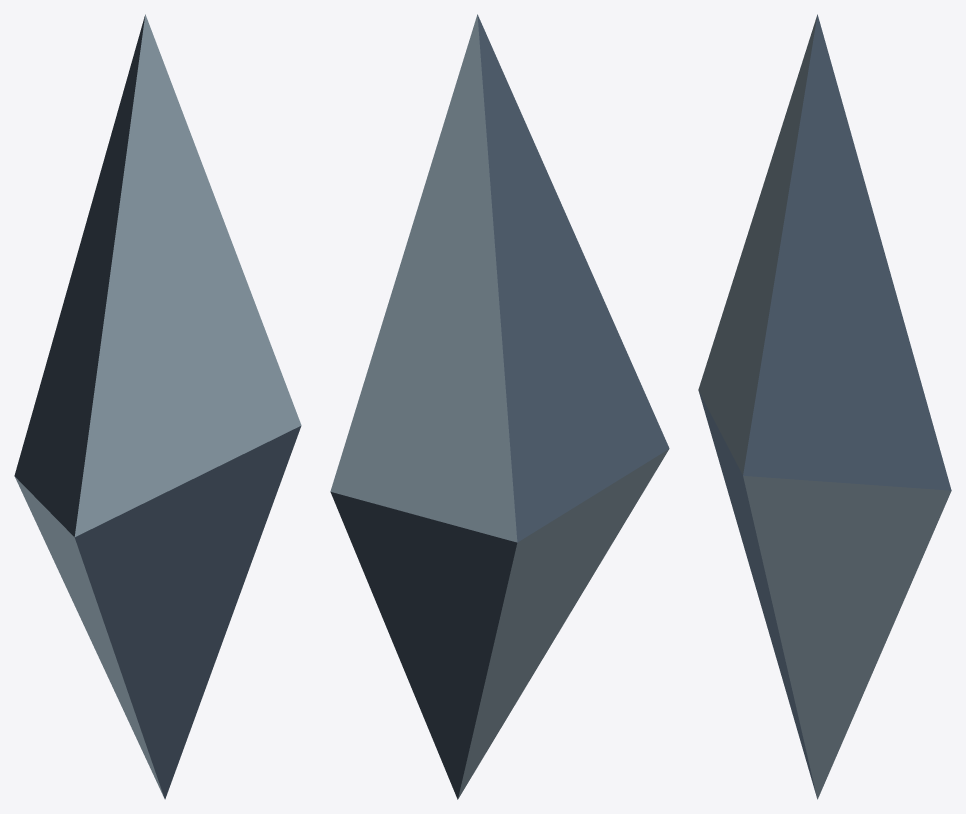
File: void_splinter.glb
The picture shows the model from 3 angles, left to right: view 1: azimuth 30°, elevation 25°; view 2: azimuth 150°, elevation 25°; view 3: azimuth 270°, elevation 25°; orthographic projection.
Parts seen in each view (by area): view 1: Void Splinter; view 2: Void Splinter; view 3: Void Splinter.
Boxes of the visible parts, x1=… form: Void Splinter: x1=14, y1=14, x2=301, y2=799; Void Splinter: x1=330, y1=14, x2=669, y2=799; Void Splinter: x1=698, y1=14, x2=951, y2=799.
Size of the model in its own units: 0.38 by 1.15 by 0.34.
